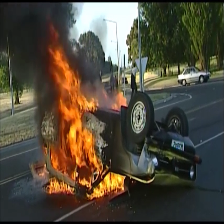fire_h: (50, 28, 110, 189), (86, 171, 125, 199), (45, 176, 75, 194)
fire_l: (111, 91, 127, 111), (38, 164, 49, 177), (42, 145, 47, 154)
